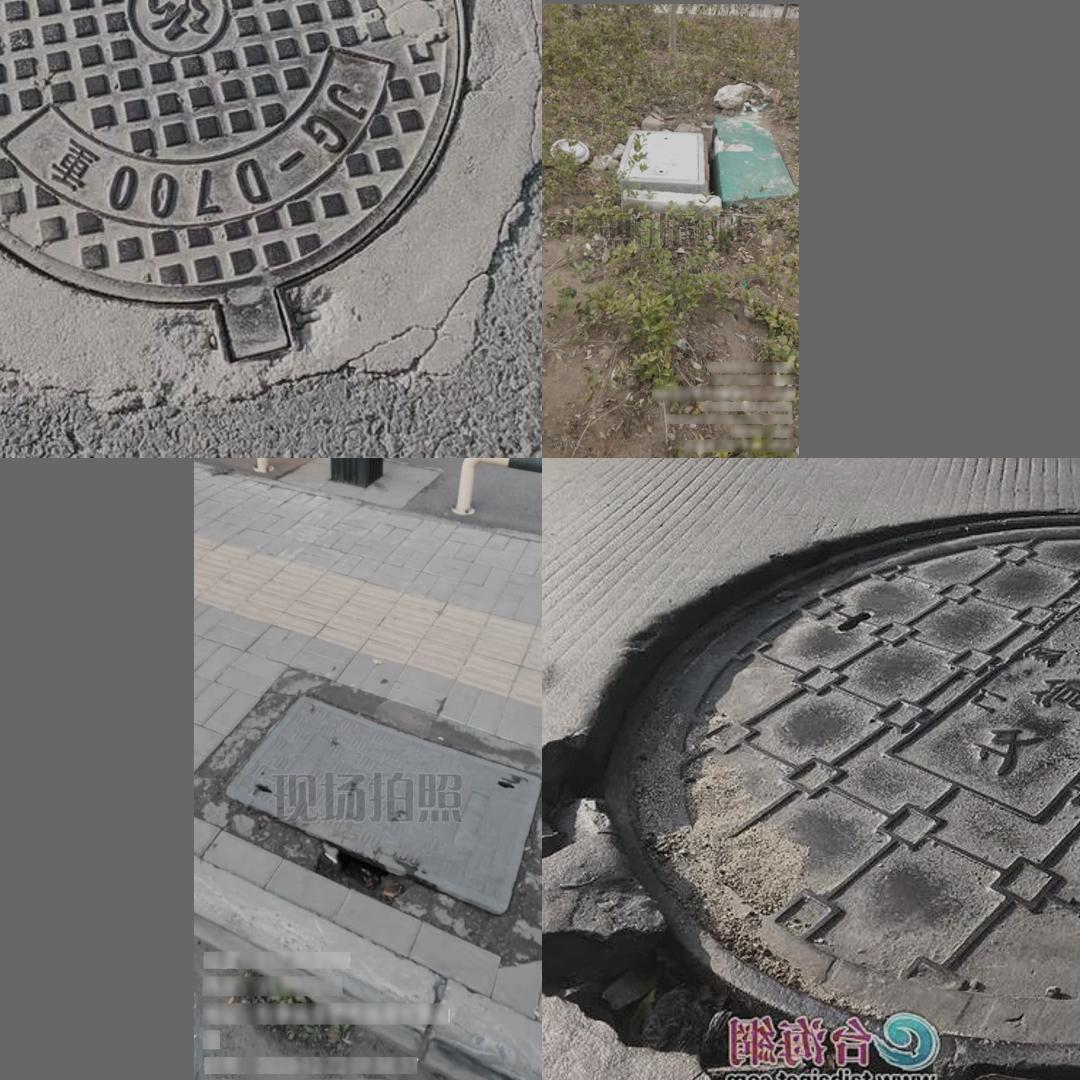circle: (562, 505, 1080, 1080), (0, 0, 517, 393), (198, 667, 542, 938), (610, 124, 723, 207)
